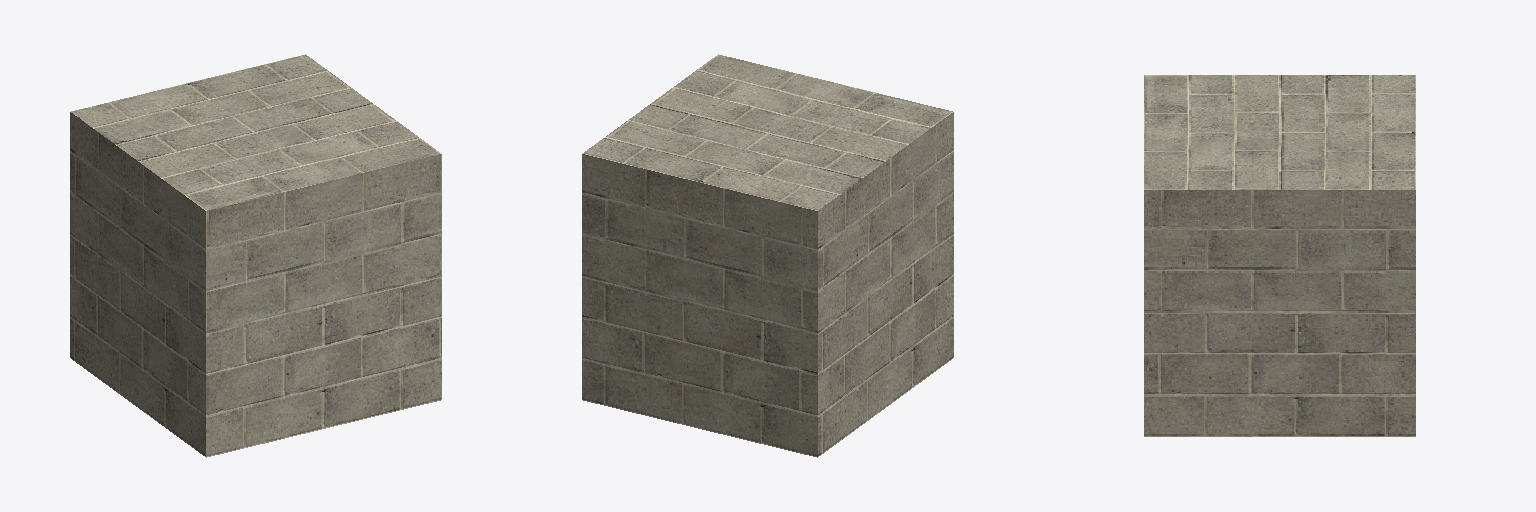
3 views of the same model, side by side, from view 1: azimuth 30°, elevation 25°; view 2: azimuth 150°, elevation 25°; view 3: azimuth 270°, elevation 25° (orthographic).
Visible parts, largest first — view 1: Box01; view 2: Box01; view 3: Box01.
Boxes of the visible parts, x1=… form: Box01: x1=70, y1=54, x2=441, y2=457; Box01: x1=582, y1=54, x2=953, y2=457; Box01: x1=1144, y1=75, x2=1415, y2=436.
Bounding box in the file's own units: 1 × 1 × 1.
Materials: 1 (1 with a texture image).